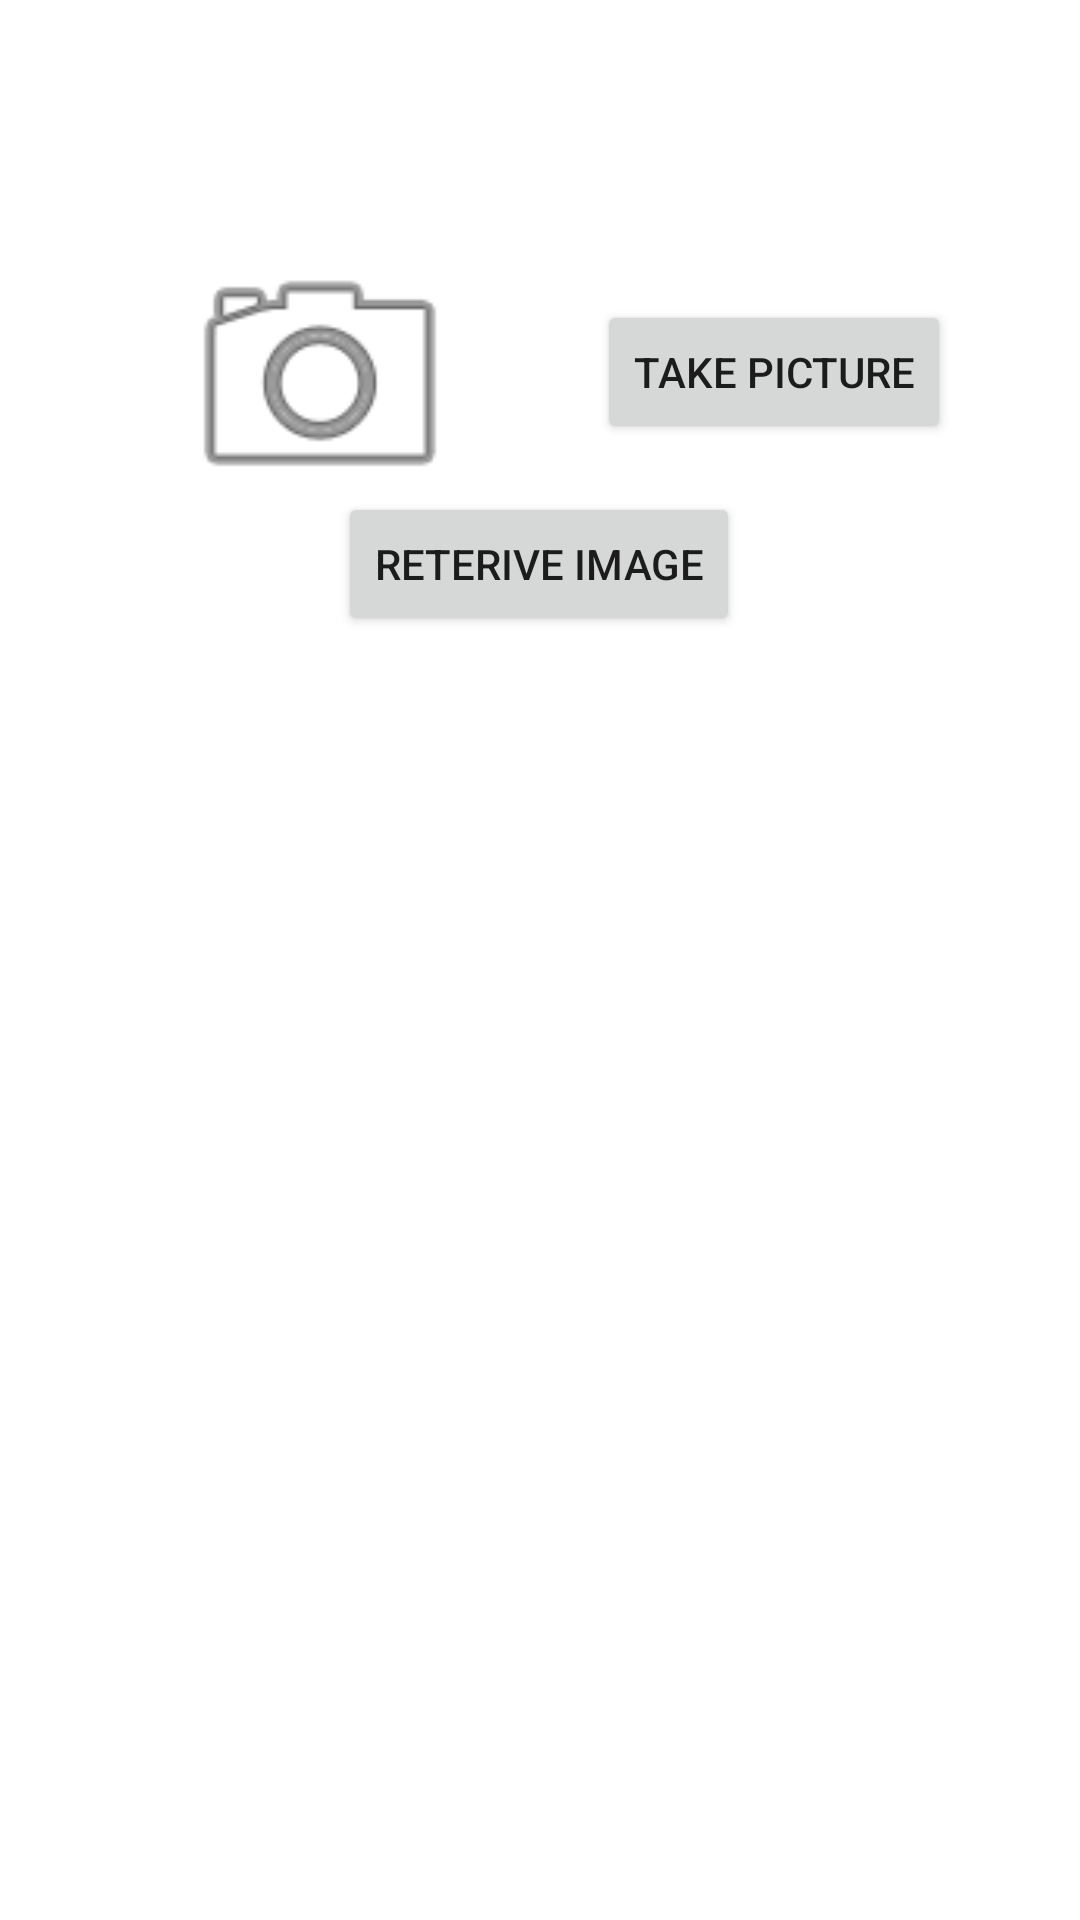

Where to tap for icons on this 1080 x 1920 app screen, as (x=x, y=y):
camera: (x=320, y=373)
